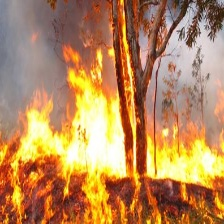fire: (1, 41, 132, 224), (149, 128, 224, 223)
smoke: (3, 1, 84, 107), (157, 1, 222, 121)
